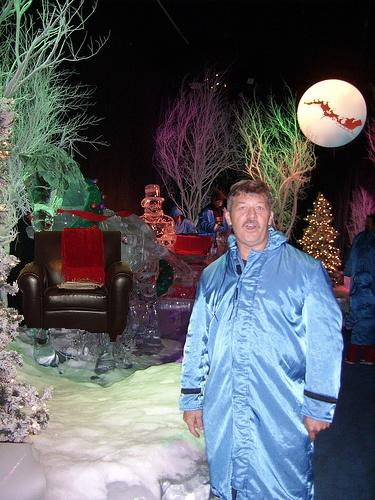tampered: (18, 228, 133, 342)
